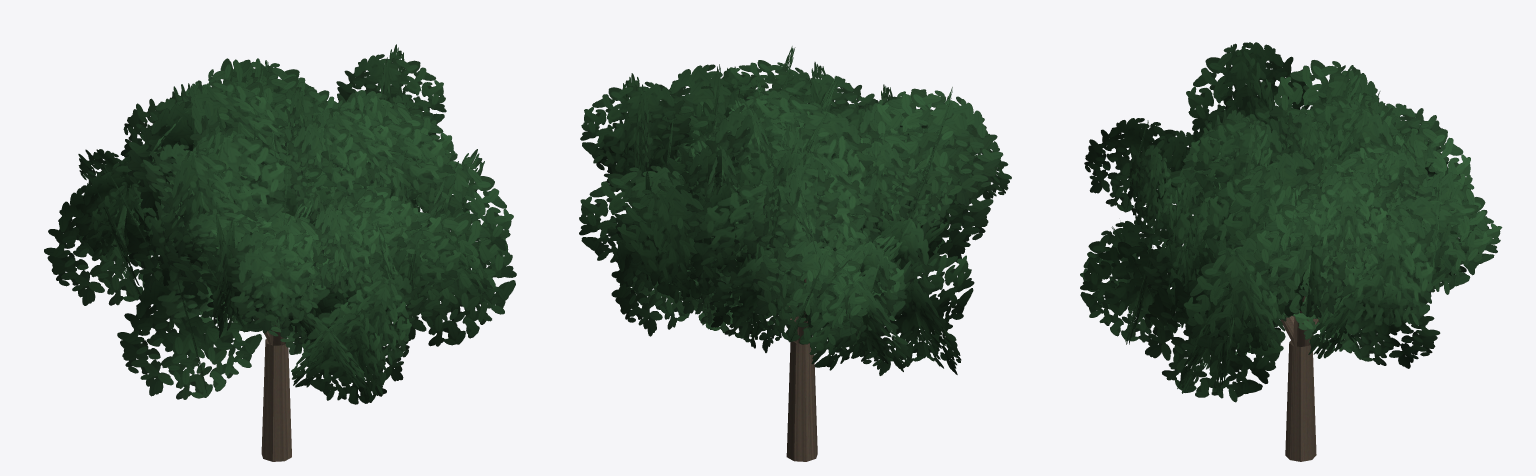
The model's file is CITY_Tree_Magnolio.fbx.
3 renders of one model, left to right at view 1: azimuth 30°, elevation 25°; view 2: azimuth 150°, elevation 25°; view 3: azimuth 270°, elevation 25°, orthographic. The views are drawn at different scales.
Visible parts, largest first — view 1: CITY_Tree_Magnolio; view 2: CITY_Tree_Magnolio; view 3: CITY_Tree_Magnolio.
Boxes of the visible parts, left/top/right/bottom form: CITY_Tree_Magnolio: left=44, top=44, right=516, bottom=461; CITY_Tree_Magnolio: left=579, top=46, right=1011, bottom=461; CITY_Tree_Magnolio: left=1080, top=42, right=1502, bottom=461.
Bounding box in the file's own units: 5.78 × 5.72 × 5.96.
